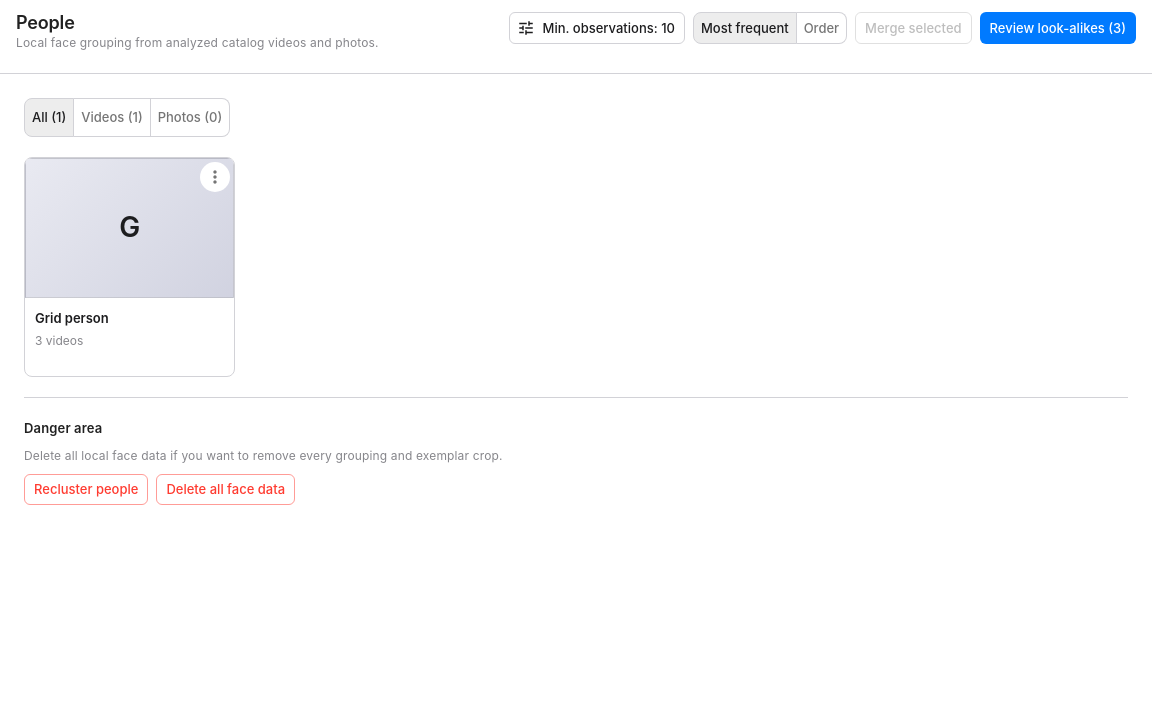
Scenario: Osoby pair review keyboard, confirmation and undo › disables undo after a merge until the next reversible answer
The width and height of the screenshot is (1152, 720).
Click the button with test id "people-pair-review-open" at (1058, 28), box [980, 12, 1136, 44]
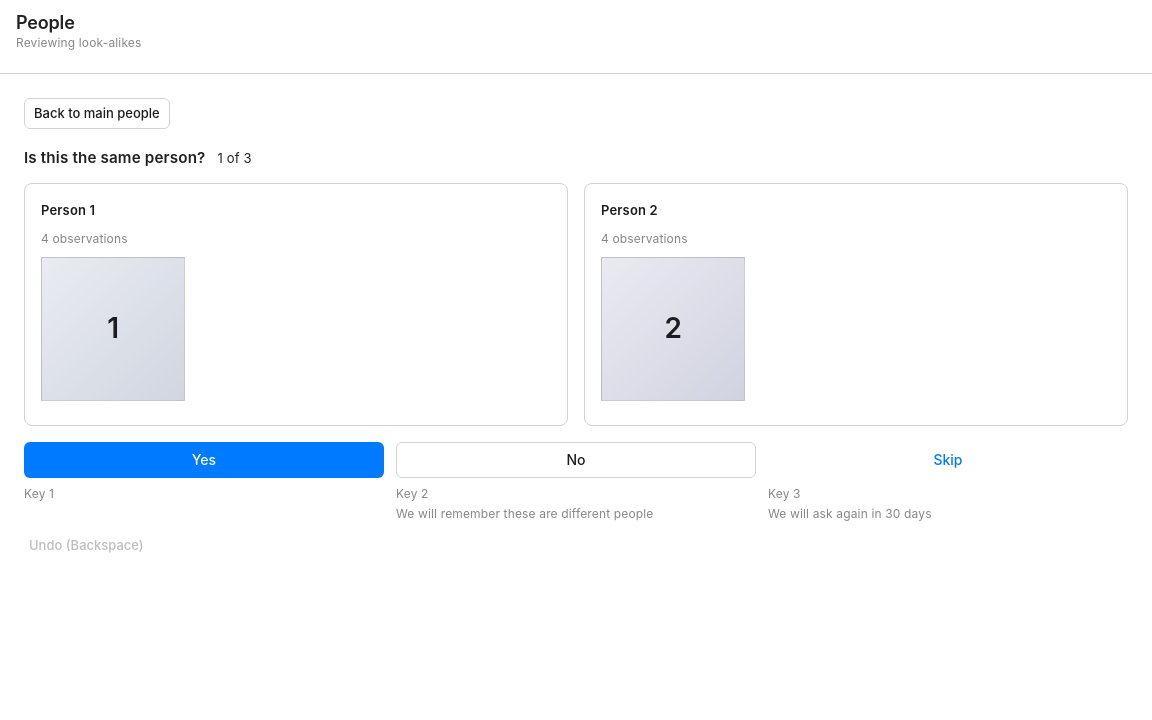
expect the element with test id "people-pair-review" is shown: met, box [24, 149, 1128, 561]
Type keys "1"
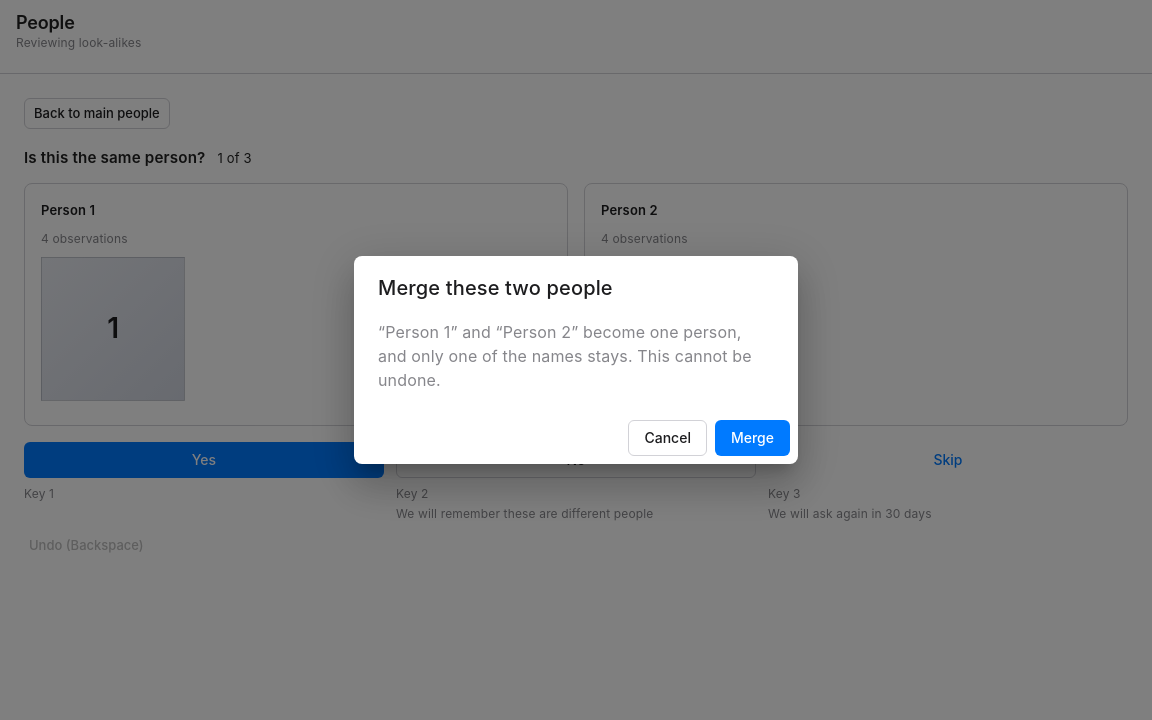
Click the button with test id "people-pair-review-confirm-accept" at (752, 438), box [715, 420, 790, 456]
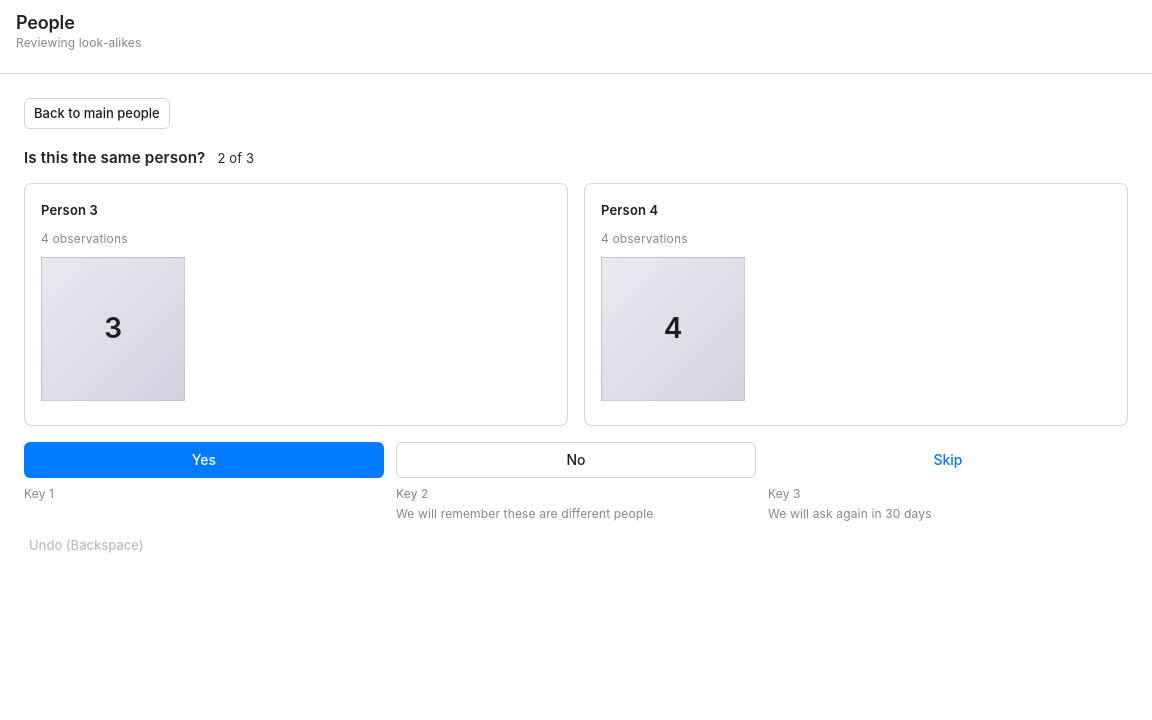
expect the message with test id "people-pair-review-position" reads "2 of 3": met, box [218, 150, 254, 166]
Press Backspace
expect the message with test id "people-pair-review-position" reads "2 of 3": met, box [218, 150, 254, 166]
expect the button with test id "people-pair-review-undo" is disabled: met, box [24, 530, 149, 561]
expect the button with test id "people-pair-review-skip" is enabled: met, box [768, 442, 1128, 478]
Type keys "3"
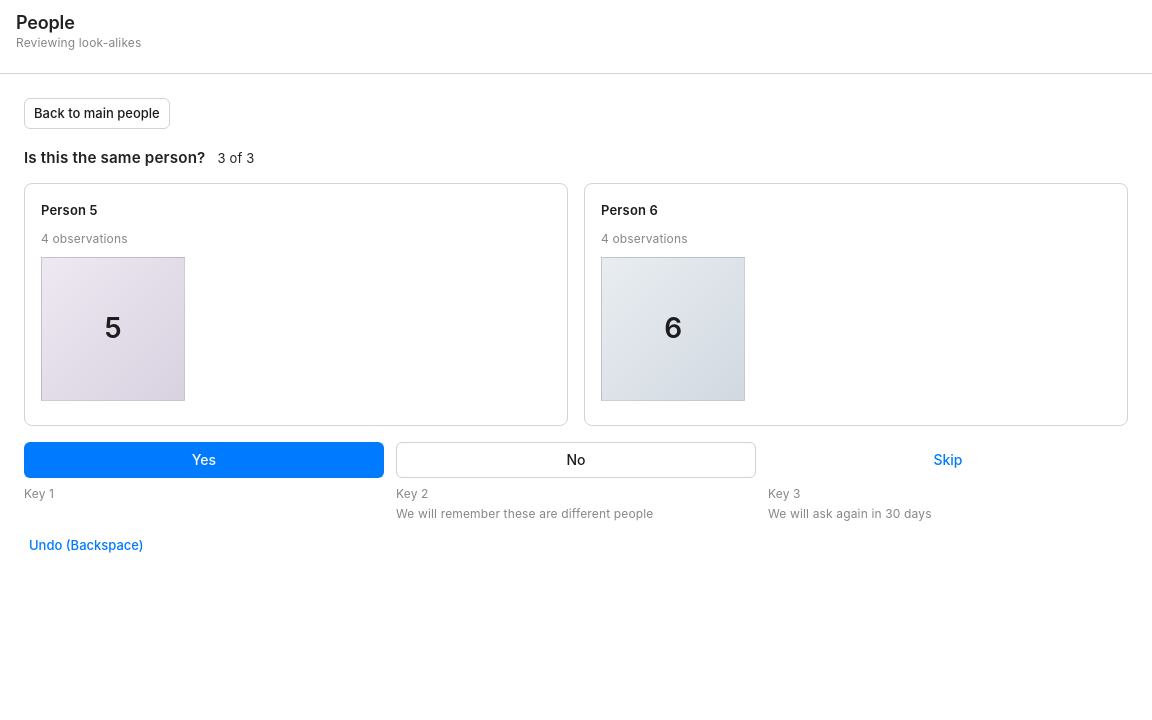
expect the message with test id "people-pair-review-position" reads "3 of 3": met, box [218, 150, 254, 166]
expect the button with test id "people-pair-review-undo" is enabled: met, box [24, 530, 149, 561]
